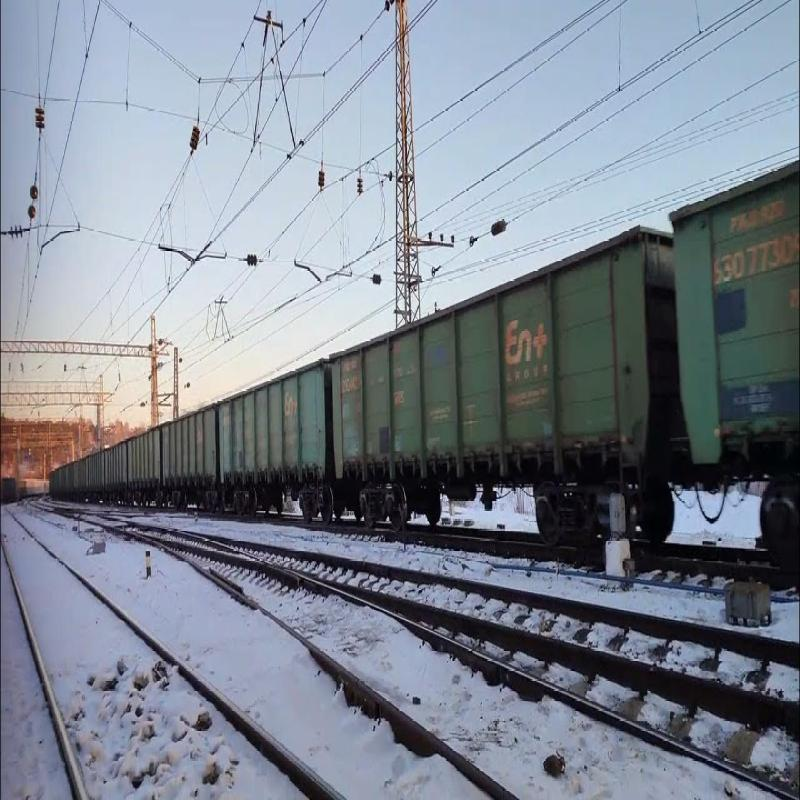train: (327, 260, 702, 555), (213, 360, 361, 548), (155, 403, 232, 525)
